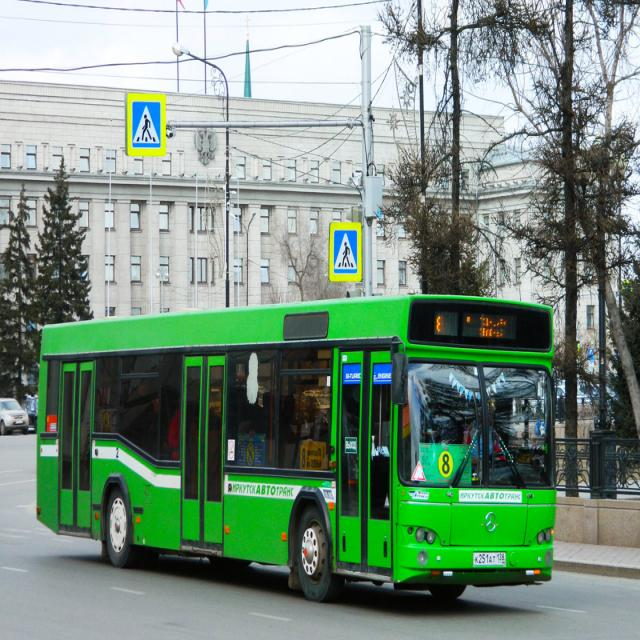number-of-bus: (439, 452, 455, 479), (439, 452, 454, 477)
